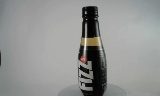appyfizz: (72, 5, 101, 95)
